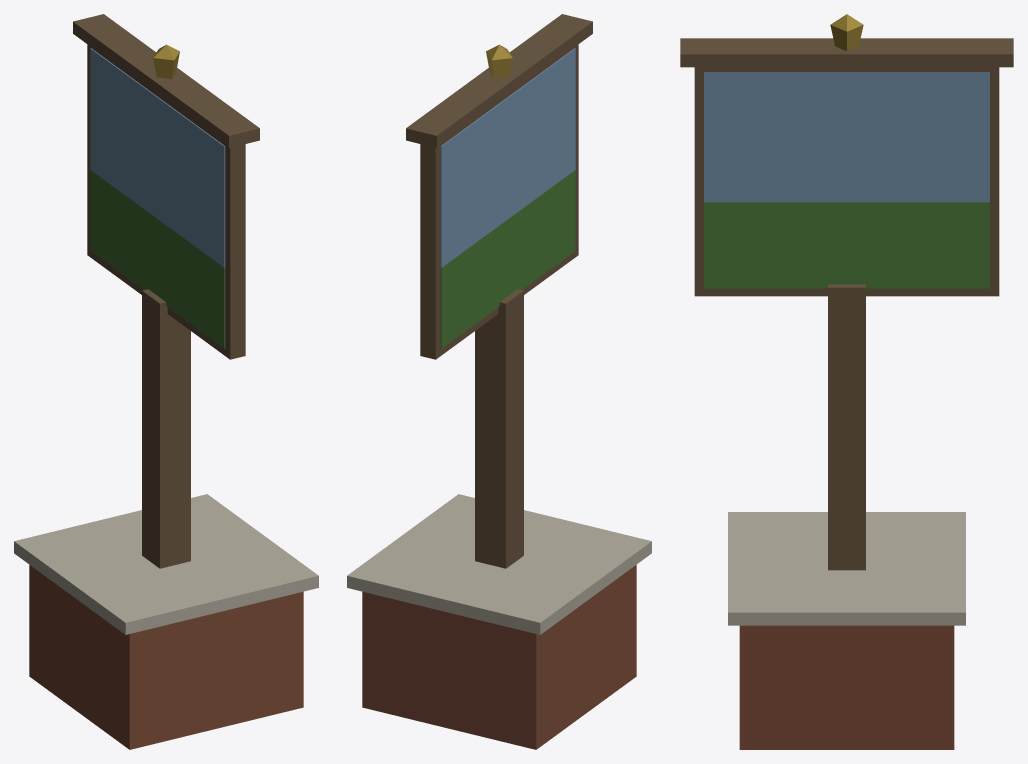
Rendered from SM_Prop_village_sign_0_LOD1.glb.
The picture shows the model from 3 angles, left to right: view 1: azimuth 30°, elevation 25°; view 2: azimuth 150°, elevation 25°; view 3: azimuth 270°, elevation 25°; orthographic projection. The views are drawn at different scales.
Parts seen in each view (by area): view 1: SM_Prop_village_sign_0_LOD1; view 2: SM_Prop_village_sign_0_LOD1; view 3: SM_Prop_village_sign_0_LOD1.
Part boxes in pixels (<box>): SM_Prop_village_sign_0_LOD1: <box>14,14,318,749</box>; SM_Prop_village_sign_0_LOD1: <box>347,14,651,749</box>; SM_Prop_village_sign_0_LOD1: <box>680,14,1013,749</box>.
Size of the model in its own units: 1 by 3.2 by 1.4.
